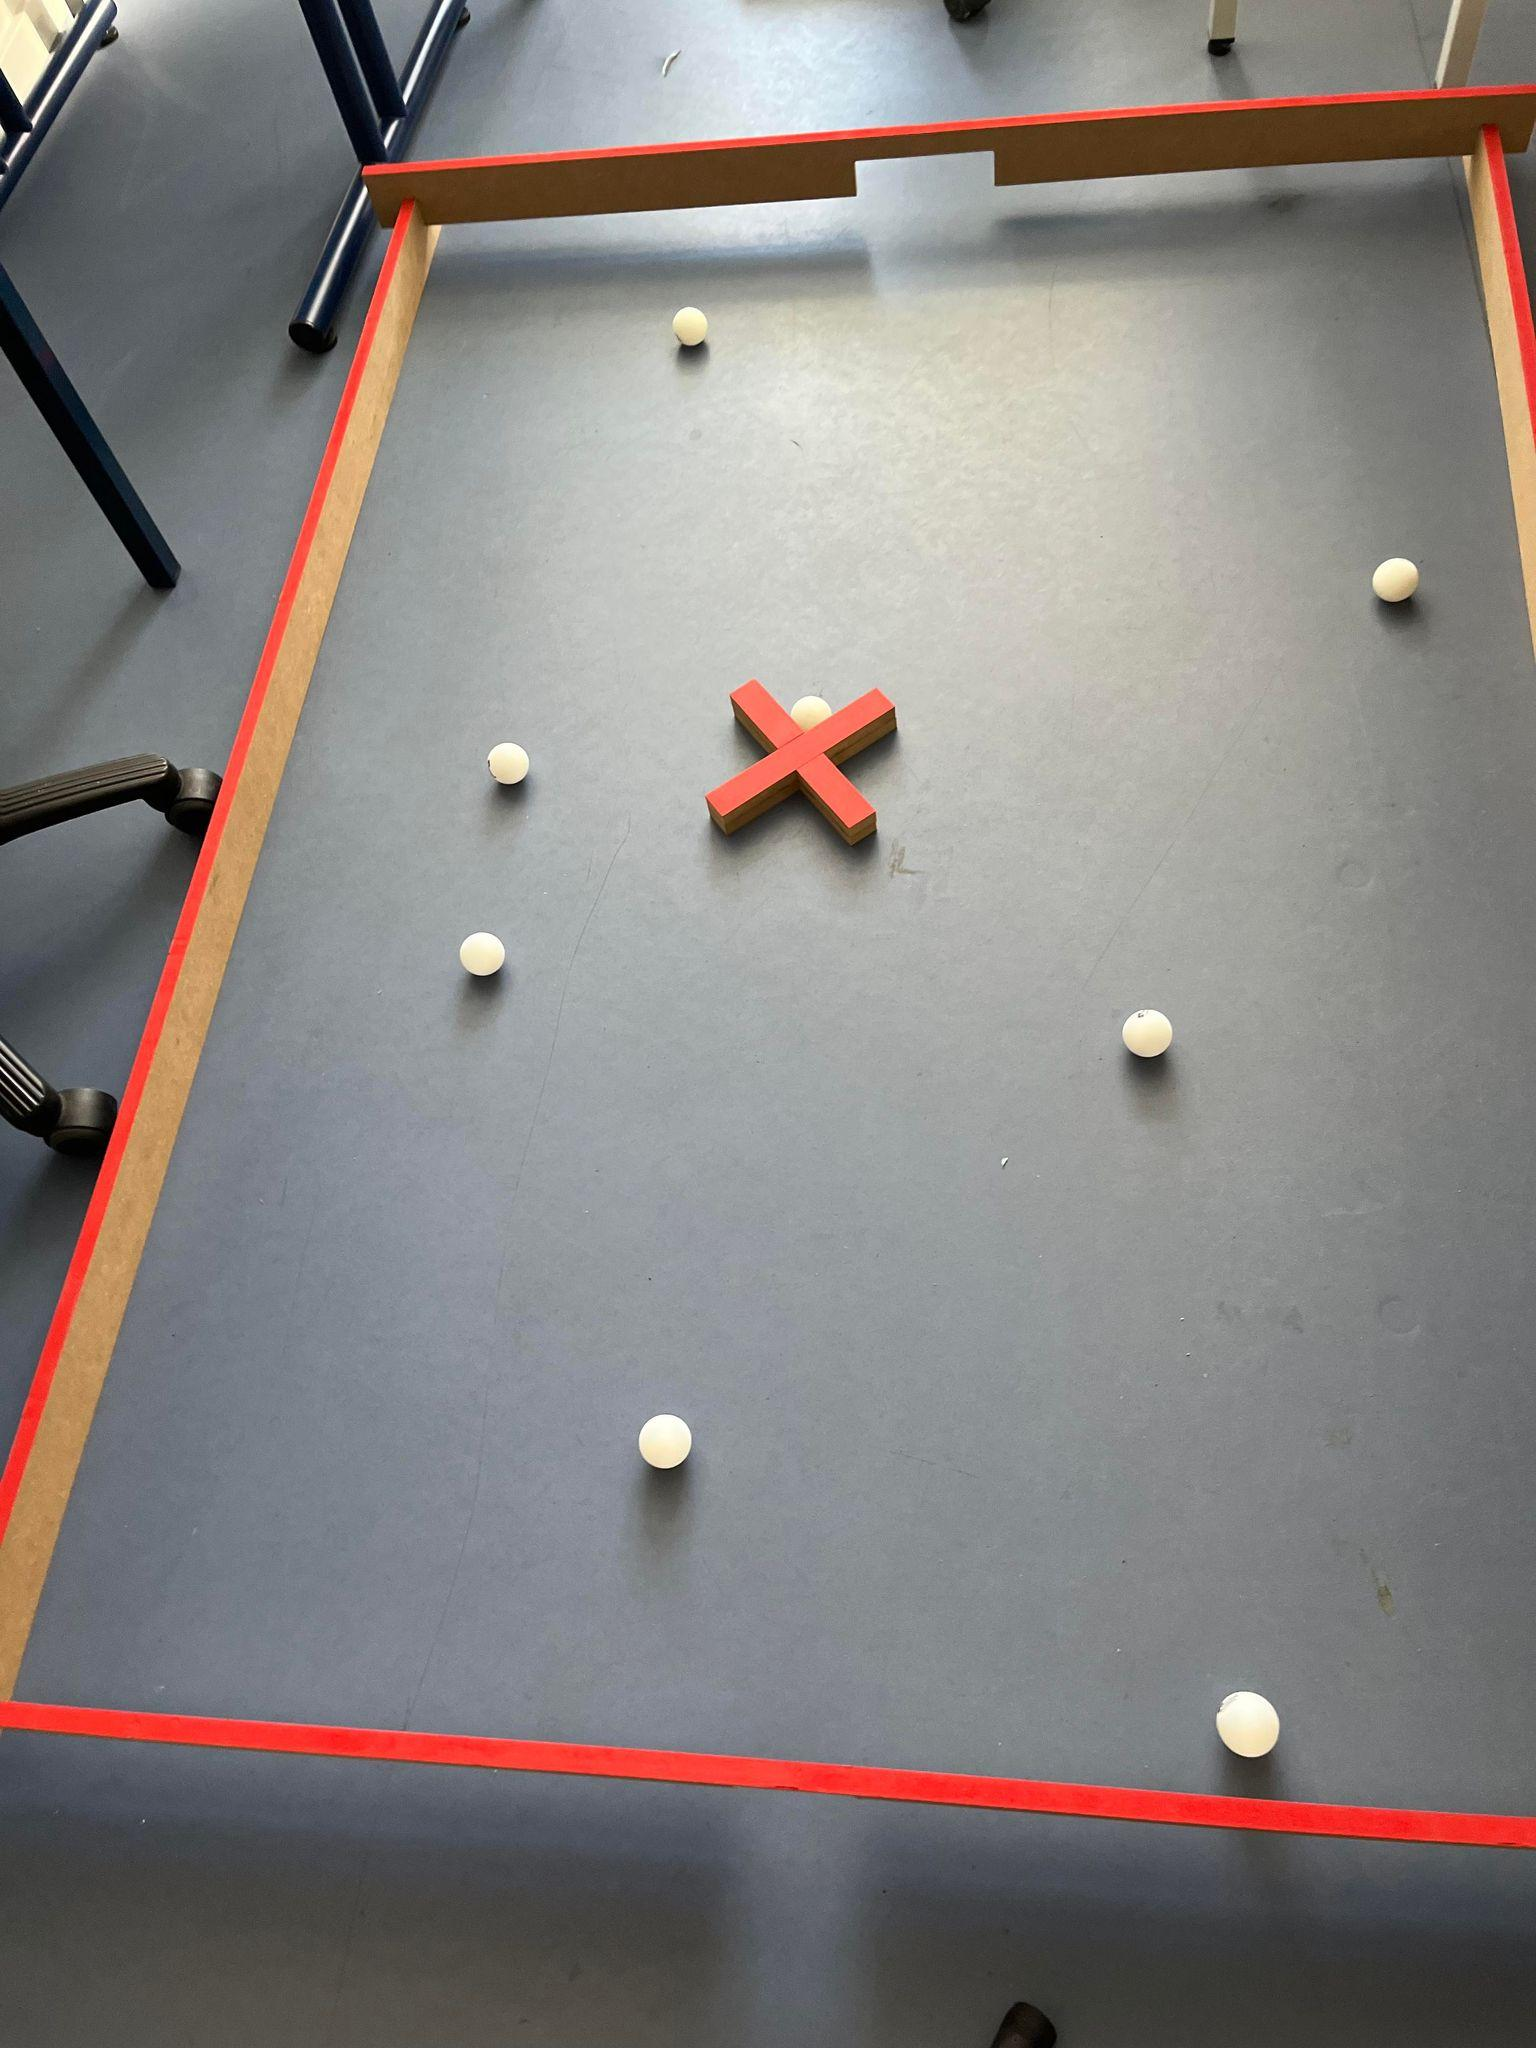white: (1217, 1687, 1289, 1758), (637, 1406, 699, 1476), (1363, 555, 1430, 608), (455, 929, 511, 984), (1120, 1006, 1178, 1059), (482, 737, 531, 785), (670, 305, 716, 347), (789, 692, 831, 731)
